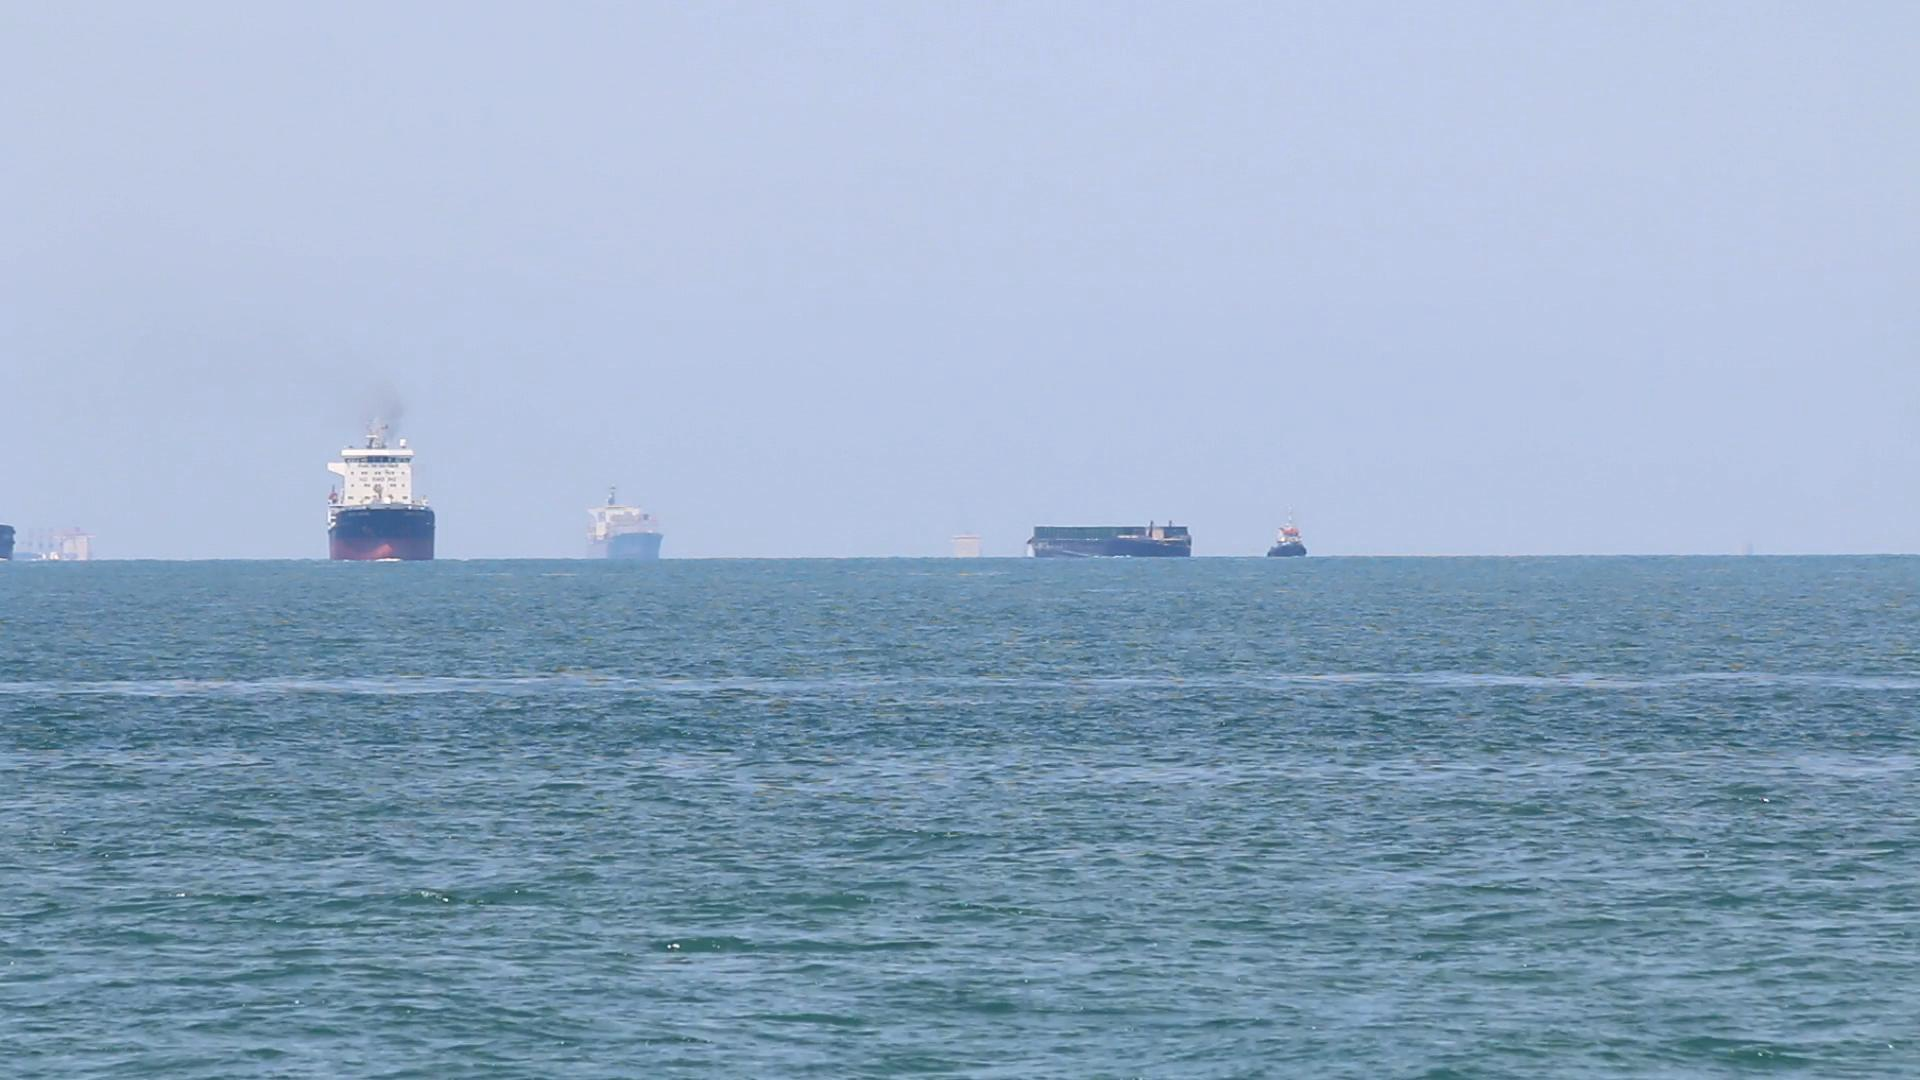Container Ship: (316, 411, 443, 571), (574, 481, 669, 574), (1019, 518, 1195, 566), (1255, 513, 1313, 567)
